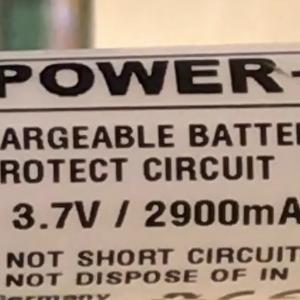3.7V: (2, 190, 108, 240)
